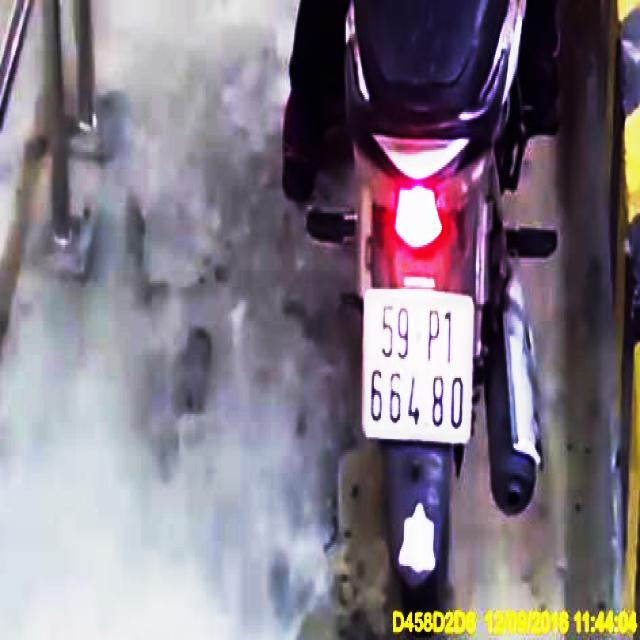license_plate: (365, 291, 473, 442)
